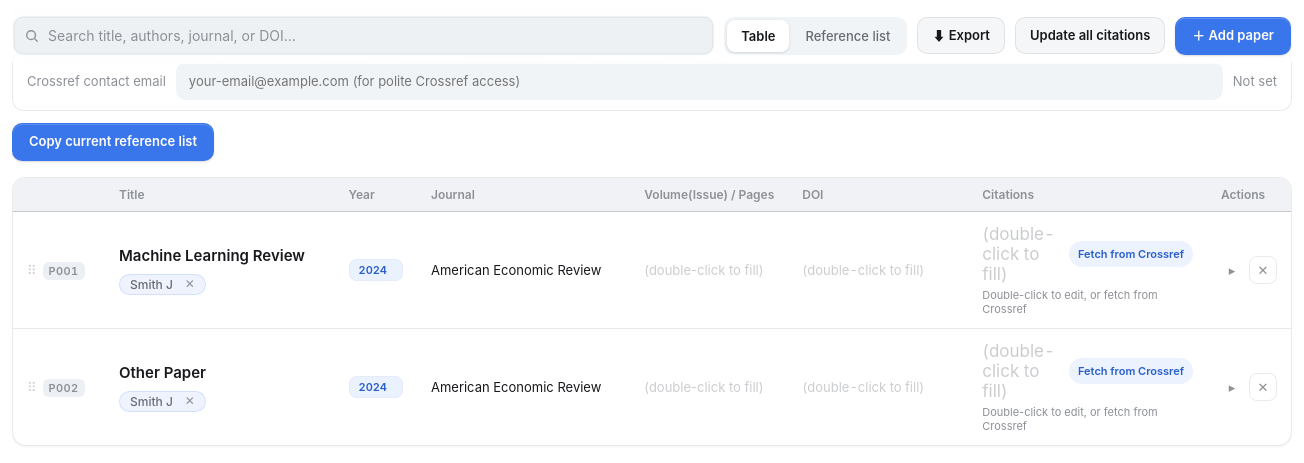
Test: PublishedPage search › filters on whitelisted fields only
This screenshot has width=1304, height=463.
Type "machine learning" into the field with placeholder "Search title, authors, journal, or DOI…" at (364, 36), box [13,16,714,55]
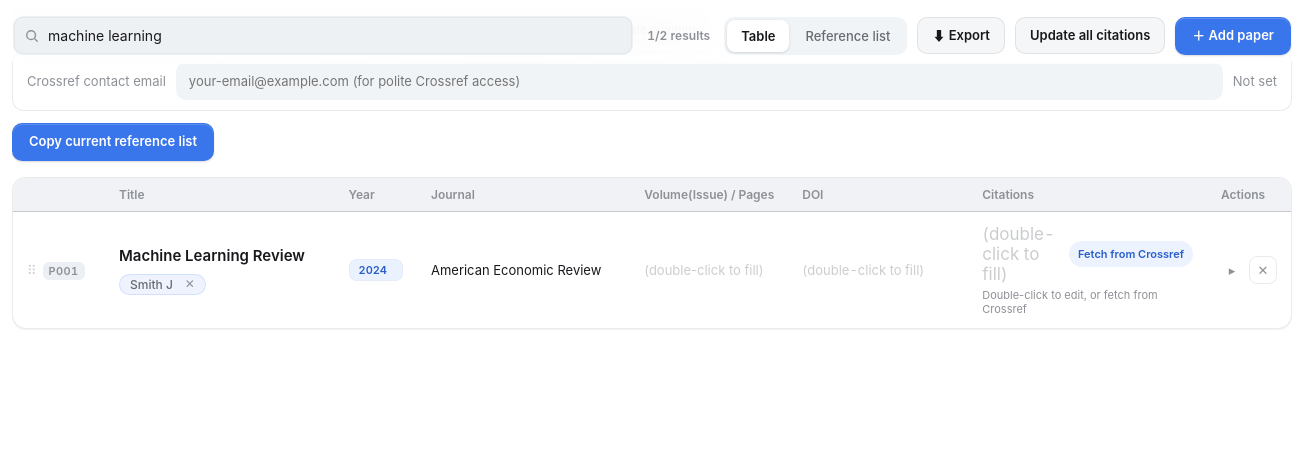
Expected: the button "Machine Learning Review" is shown, [113,244,311,267]
Result: the button "Other Paper" is gone
Replace the text in the field with placeholder "Search title, authors, journal, or DOI…" with "internal-note-42" at (323, 36), box [13,16,633,55]
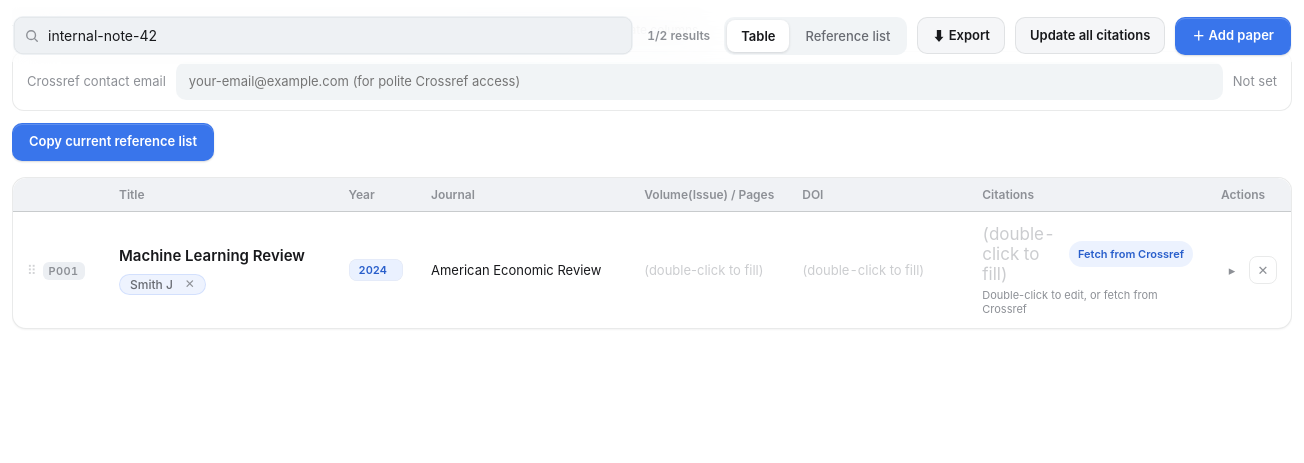
Expected: the button "Machine Learning Review" is shown, [113,244,311,267]
Replace the text in the field with placeholder "Search title, authors, journal, or DOI…" with "citation_updated_at" at (323, 36), box [13,16,633,55]
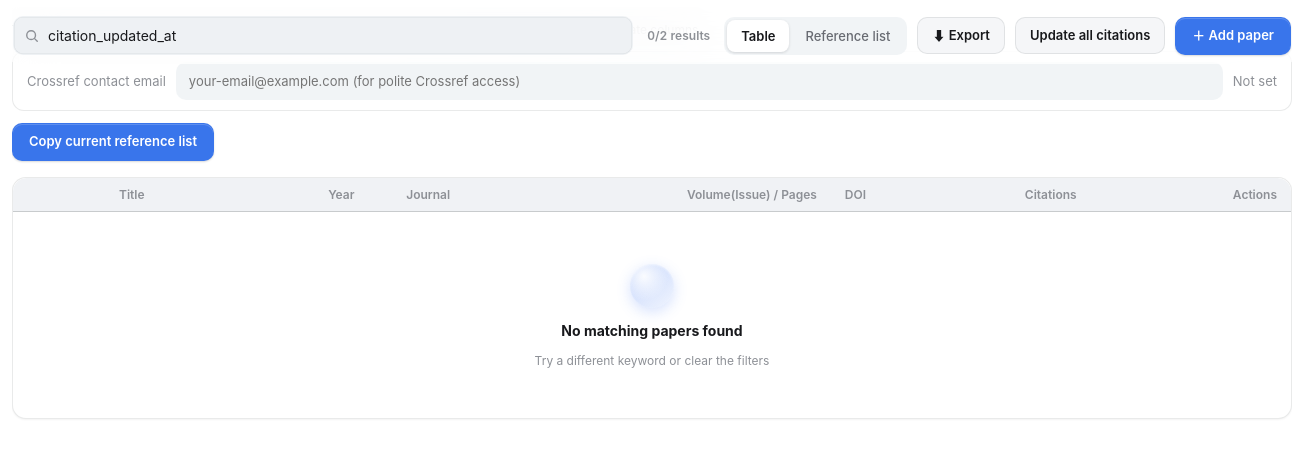
Result: the button "Machine Learning Review" is gone
